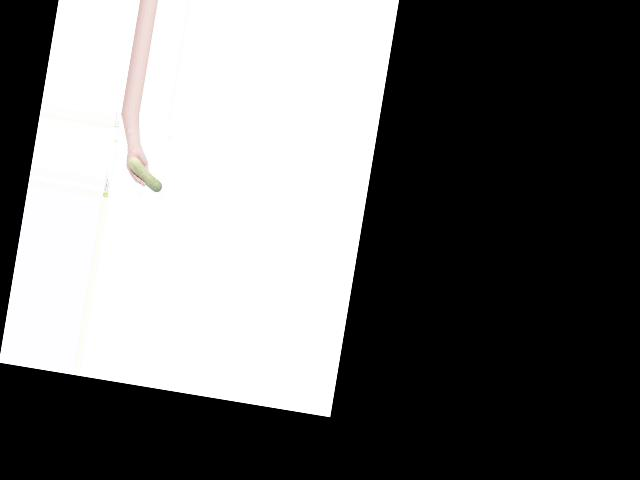cucumber: (124, 155, 165, 192)
